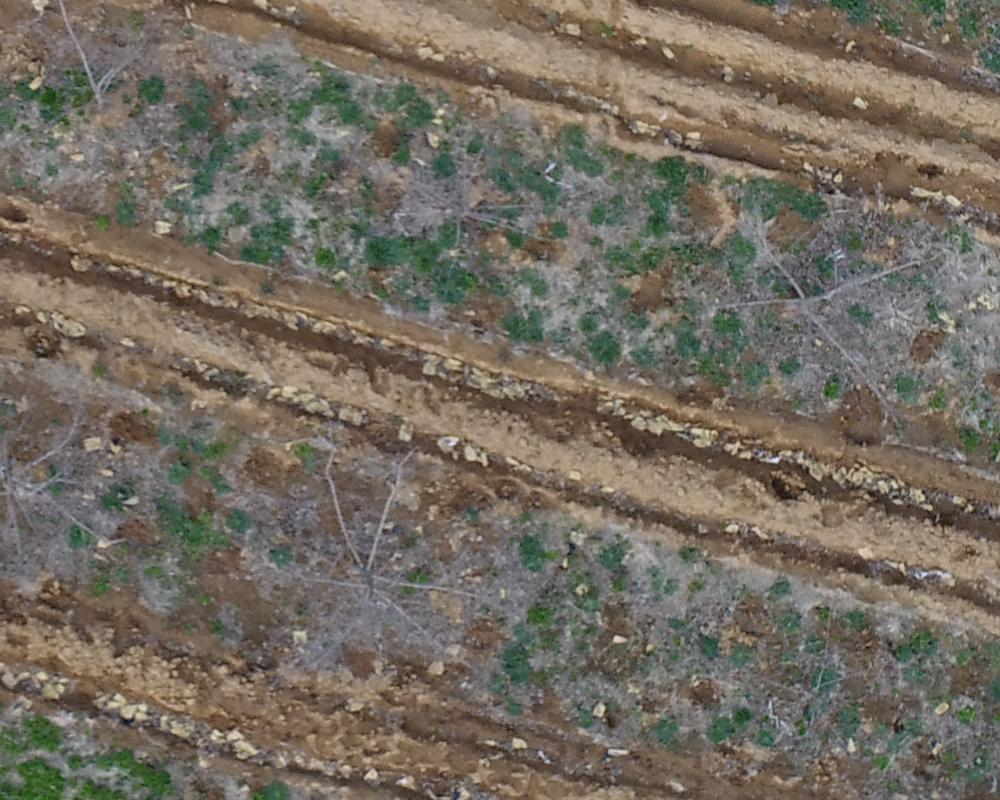apple: (698, 217, 957, 436), (258, 435, 502, 665), (372, 155, 586, 300), (10, 346, 139, 564), (10, 10, 164, 147)
